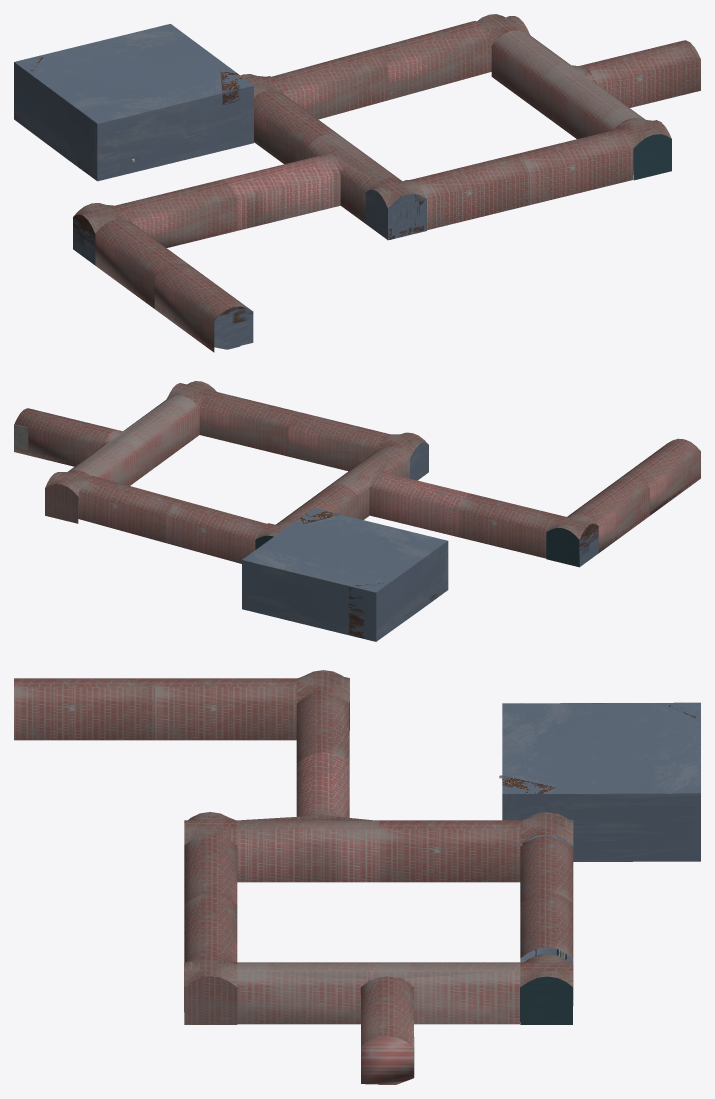
The model's file is room 3.fbx.
3 renders of one model, top to bottom at view 1: azimuth 30°, elevation 25°; view 2: azimuth 150°, elevation 25°; view 3: azimuth 270°, elevation 25°, orthographic. The views are drawn at different scales.
Parts seen in each view (by area): view 1: base.008, brick.015, brick.017, brick.007, brick.013, brick.020, brick.009, brick.022, brick.011, brick.019, brick.014, brick.001 (+3 smaller); view 2: base.008, brick.017, brick.015, brick.013, brick.007, brick.020, brick.009, brick.022, brick.010, brick.018, brick.011, brick.014 (+3 smaller); view 3: base.008, brick.007, brick.020, brick.013, brick.011, brick.015, brick.017, brick.022, brick.019, brick.018, brick.009, brick.016 (+2 smaller).
Part boxes in pixels (bbox=[...]): base.008: bbox=[14, 24, 253, 181]; brick.015: bbox=[412, 129, 633, 230]; brick.017: bbox=[272, 21, 491, 119]; brick.007: bbox=[95, 219, 253, 352]; brick.013: bbox=[222, 134, 402, 230]; brick.020: bbox=[491, 30, 644, 138]; brick.009: bbox=[118, 179, 237, 247]; brick.022: bbox=[582, 40, 700, 107]; brick.011: bbox=[254, 90, 342, 164]; brick.019: bbox=[613, 117, 671, 180]; brick.014: bbox=[365, 177, 426, 239]; brick.001: bbox=[388, 194, 426, 240]; base.008: bbox=[242, 508, 448, 641]; brick.017: bbox=[78, 476, 266, 563]; brick.015: bbox=[199, 391, 389, 471]; brick.013: bbox=[326, 446, 471, 536]; brick.007: bbox=[567, 438, 700, 552]; brick.020: bbox=[68, 395, 199, 499]; brick.009: bbox=[458, 494, 559, 558]; brick.022: bbox=[14, 408, 116, 466]; brick.010: bbox=[546, 513, 597, 567]; brick.018: bbox=[45, 470, 90, 523]; brick.011: bbox=[276, 484, 358, 524]; brick.014: bbox=[377, 432, 428, 480]; base.008: bbox=[502, 702, 700, 861]; brick.007: bbox=[14, 678, 296, 740]; brick.020: bbox=[237, 962, 519, 1024]; brick.013: bbox=[237, 752, 378, 882]; brick.011: bbox=[379, 820, 520, 882]; brick.015: bbox=[184, 834, 237, 962]; brick.017: bbox=[520, 836, 573, 963]; brick.022: bbox=[361, 976, 413, 1084]; brick.019: bbox=[184, 954, 237, 1024]; brick.018: bbox=[520, 954, 573, 1024]; brick.009: bbox=[296, 692, 349, 762]; brick.016: bbox=[520, 812, 573, 844].
Bounding box in the file's own units: 159 × 14.02 × 126.
